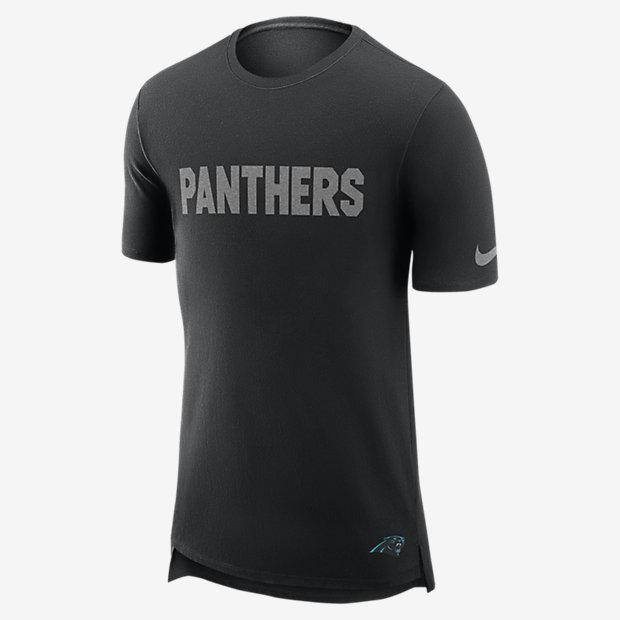teeshirt: (102, 10, 528, 620)
